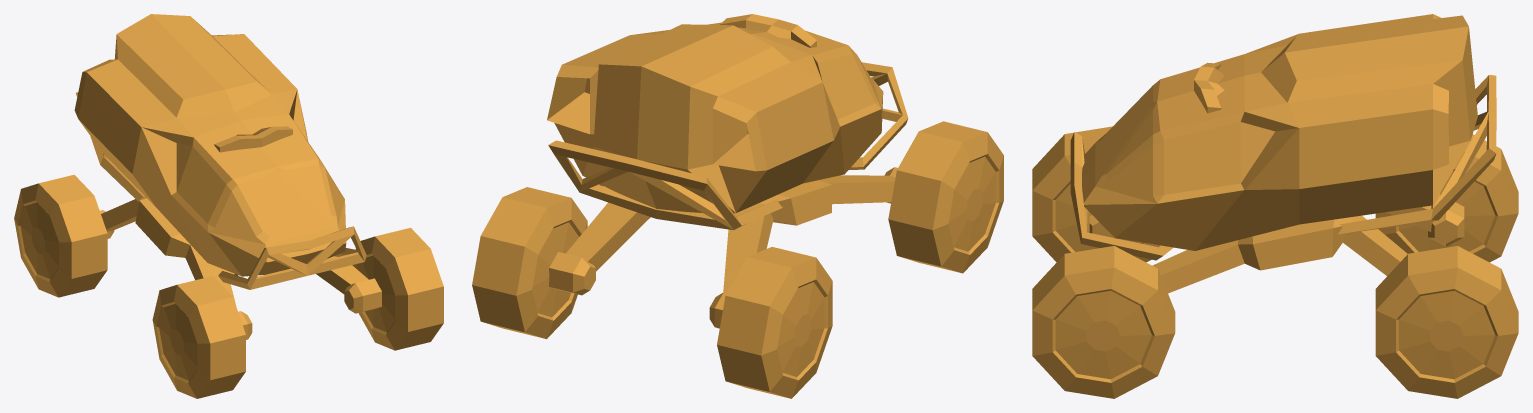
File: scifi-buggy.fbx
3 renders of one model, left to right at view 1: azimuth 30°, elevation 25°; view 2: azimuth 150°, elevation 25°; view 3: azimuth 270°, elevation 25°, orthographic. The views are drawn at different scales.
Parts seen in each view (by area): view 1: scifi-buggy-cabin, scifi-buggy-wheel_FR, scifi-buggy-wheel_BR, scifi-buggy-wheel_FL, scifi-buggy-chasis; view 2: scifi-buggy-cabin, scifi-buggy-chasis, scifi-buggy-wheel_BR, scifi-buggy-wheel_FR, scifi-buggy-wheel_BL; view 3: scifi-buggy-cabin, scifi-buggy-wheel_BL, scifi-buggy-wheel_FL, scifi-buggy-chasis, scifi-buggy-wheel_BR, scifi-buggy-wheel_FR.
Part boxes in pixels (x1,y1,x2,y2): scifi-buggy-cabin: (74, 14, 346, 276); scifi-buggy-wheel_FR: (152, 276, 252, 398); scifi-buggy-wheel_BR: (14, 174, 114, 297); scifi-buggy-wheel_FL: (344, 227, 443, 350); scifi-buggy-chasis: (76, 92, 368, 304); scifi-buggy-cabin: (547, 14, 883, 213); scifi-buggy-chasis: (548, 62, 908, 292); scifi-buggy-wheel_BR: (709, 247, 832, 398); scifi-buggy-wheel_FR: (884, 121, 1003, 273); scifi-buggy-wheel_BL: (472, 187, 595, 339); scifi-buggy-cabin: (1082, 14, 1477, 250); scifi-buggy-wheel_BL: (1375, 246, 1518, 398); scifi-buggy-wheel_FL: (1032, 246, 1175, 398); scifi-buggy-chasis: (1070, 75, 1496, 293); scifi-buggy-wheel_BR: (1375, 134, 1518, 262); scifi-buggy-wheel_FR: (1032, 126, 1159, 262).
Size of the model in its own units: 4.05 by 3.88 by 5.66.
